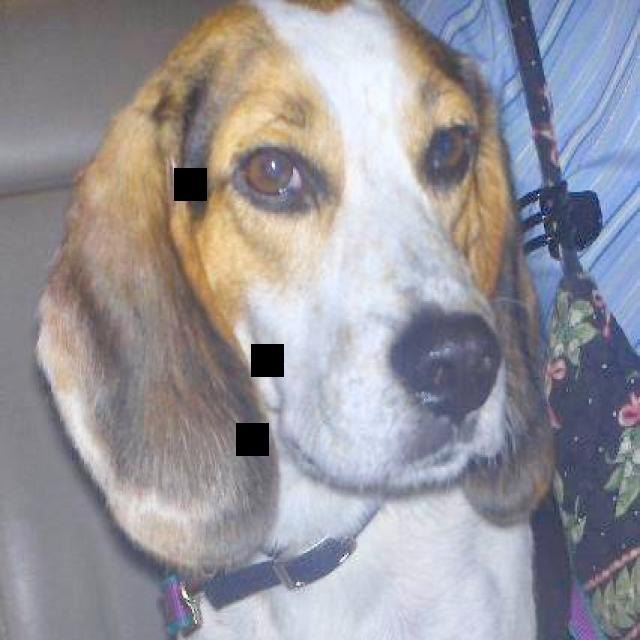adult_dog: (26, 1, 561, 640)
